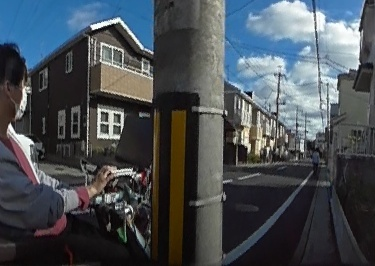person: (311, 148, 320, 176)
